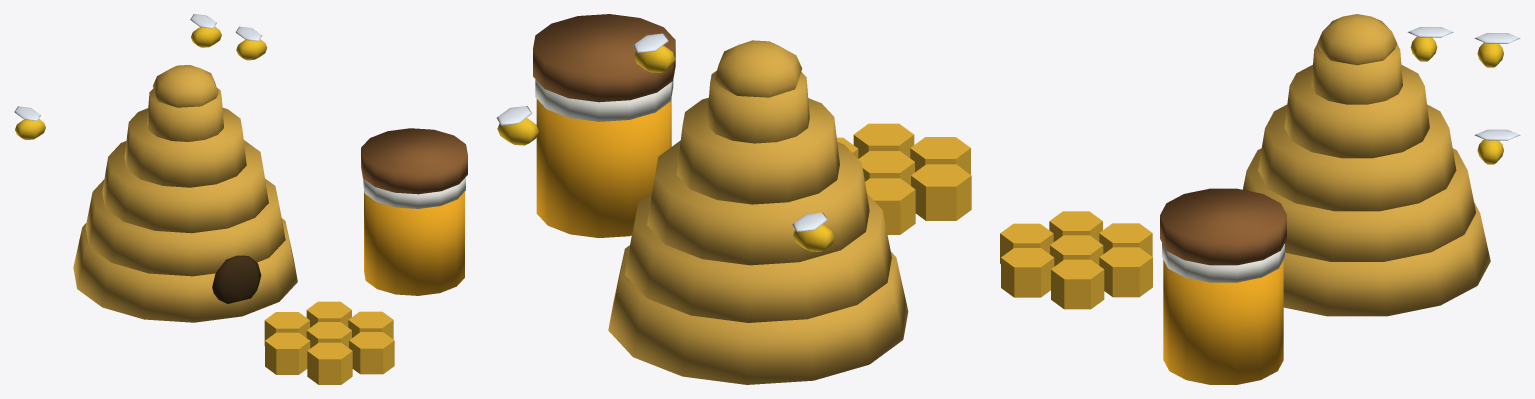
Rendered from resource_honey.fbx.
3 views of the same model, side by side, from view 1: azimuth 30°, elevation 25°; view 2: azimuth 150°, elevation 25°; view 3: azimuth 270°, elevation 25° (orthographic). The views are drawn at different scales.
Visible parts, largest first — view 1: resource_honey_skep_00, resource_honey_honey_02, resource_honey_comb_05, resource_honey_wood#8a5a2c.002_04, resource_honey_hole_01, resource_honey_hjar_03, resource_honey_bee_06, resource_honey_wing_07; view 2: resource_honey_skep_00, resource_honey_honey_02, resource_honey_comb_05, resource_honey_wood#8a5a2c.002_04, resource_honey_hjar_03, resource_honey_bee_06, resource_honey_wing_07; view 3: resource_honey_skep_00, resource_honey_honey_02, resource_honey_comb_05, resource_honey_wood#8a5a2c.002_04, resource_honey_hjar_03, resource_honey_bee_06, resource_honey_wing_07.
Part boxes in pixels (x1,y1,x2,y2): resource_honey_skep_00: [73, 65, 297, 322]; resource_honey_honey_02: [364, 191, 464, 295]; resource_honey_comb_05: [264, 301, 394, 384]; resource_honey_wood#8a5a2c.002_04: [361, 128, 467, 194]; resource_honey_hole_01: [212, 255, 261, 303]; resource_honey_hjar_03: [363, 177, 465, 208]; resource_honey_bee_06: [15, 27, 267, 139]; resource_honey_wing_07: [14, 14, 262, 120]; resource_honey_skep_00: [608, 40, 908, 384]; resource_honey_honey_02: [536, 98, 671, 237]; resource_honey_comb_05: [837, 123, 971, 234]; resource_honey_wood#8a5a2c.002_04: [533, 14, 675, 102]; resource_honey_hjar_03: [535, 79, 673, 121]; resource_honey_bee_06: [497, 45, 834, 251]; resource_honey_wing_07: [496, 33, 827, 231]; resource_honey_skep_00: [1243, 14, 1490, 316]; resource_honey_honey_02: [1163, 260, 1283, 384]; resource_honey_comb_05: [1000, 211, 1152, 309]; resource_honey_wood#8a5a2c.002_04: [1160, 188, 1286, 265]; resource_honey_hjar_03: [1162, 243, 1284, 282]; resource_honey_bee_06: [1410, 36, 1503, 164]; resource_honey_wing_07: [1407, 27, 1520, 140].
Size of the model in its own units: 66.86 by 42.9 by 77.95.
